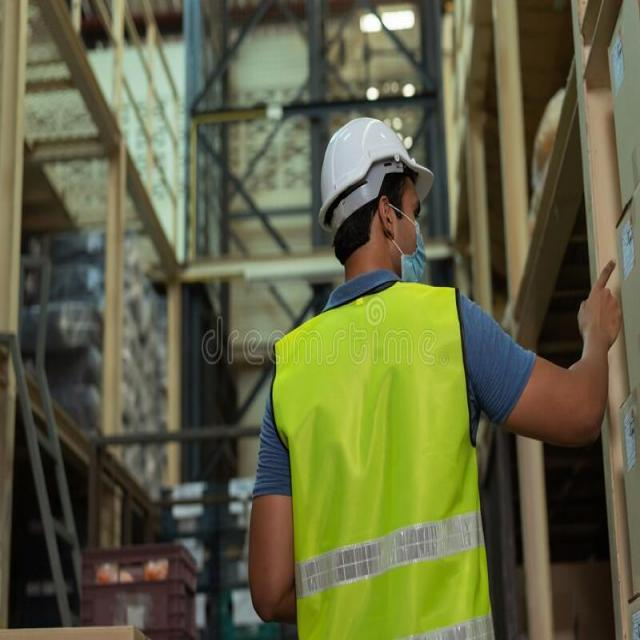reflective_jacket: (269, 281, 501, 639)
safety_helmet: (314, 109, 434, 229)
